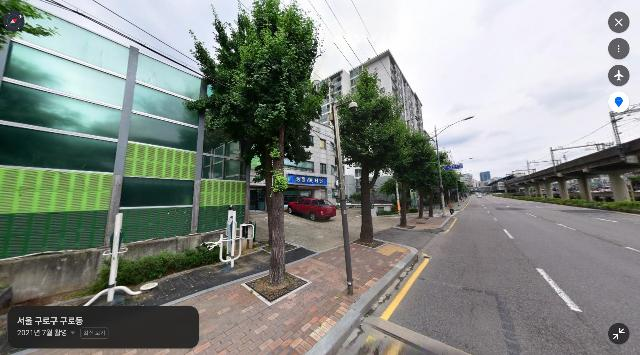other: (178, 0, 326, 291), (330, 66, 409, 244), (376, 118, 428, 228), (0, 0, 60, 46), (409, 140, 441, 219), (426, 153, 448, 217)
